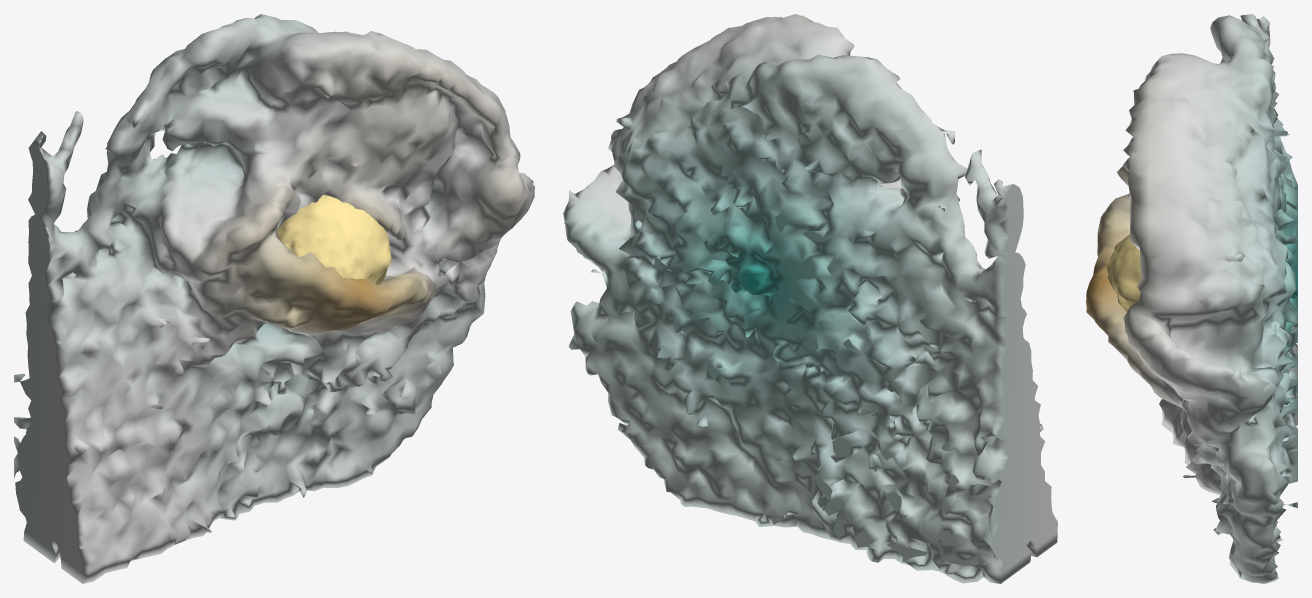
Rendered from MetricPhi_1.glb.
3 views of the same model, side by side, from view 1: azimuth 30°, elevation 25°; view 2: azimuth 150°, elevation 25°; view 3: azimuth 270°, elevation 25° (orthographic). The views are drawn at different scales.
Visible parts, largest first — view 1: surface (×2); view 2: surface; view 3: surface (×2).
Part boxes in pixels (box(x1,y1,x2,y2)): surface (×2): box(14, 14, 534, 583); surface: box(563, 14, 1057, 583); surface (×2): box(1086, 14, 1297, 583).
Size of the model in its own units: 19.43 by 19.25 by 7.66.
